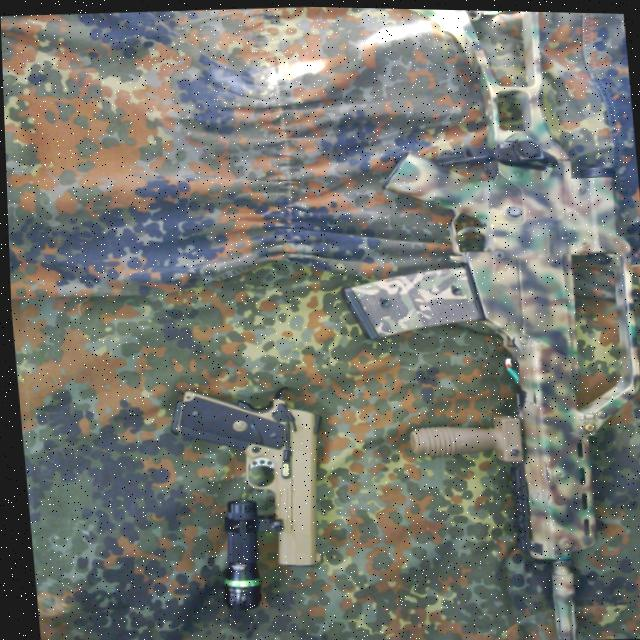firearm: (313, 5, 640, 640)
pistol: (161, 379, 332, 574)
